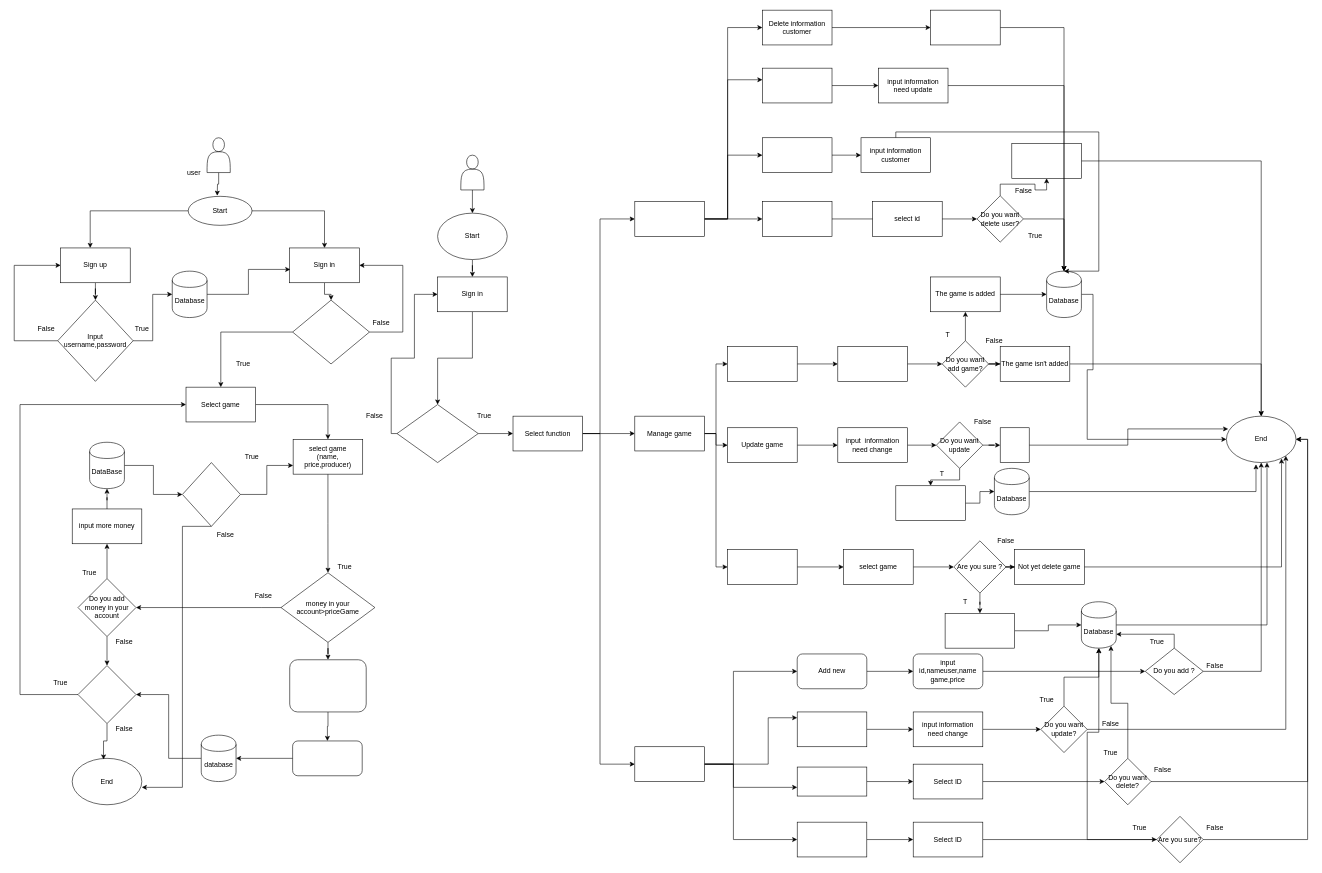
The diagram is 1322 pixels wide and 873 high, and some of its shapes have lost their labels. The centre of each missing label's shape, as x and y in pixels:
Add information customer: point 797,155
Add new game: point 762,363
delete: point 832,781
Delete game: point 762,566
delete user: point 797,218
Do you want buy other game?: point 106,694
Do you want continue buy ?: point 211,494
input id_customer: point 965,27
input id_game,name game,price,producer: point 872,363
input username ,password(checkbase): point 437,433
input username, password(check database): point 330,332
manage user: point 669,218
moneyCurrent = money-pricegame: point 327,758
Not yet delete: point 1046,160
Not yet update: point 1014,445
out put"Thank you to buy game" this is key to download: point 327,685
print receipt: point 832,839
receipt: point 669,764
Update: point 832,729
Update information customer: point 797,85
Updated: point 930,503
you deleted game: point 980,630
